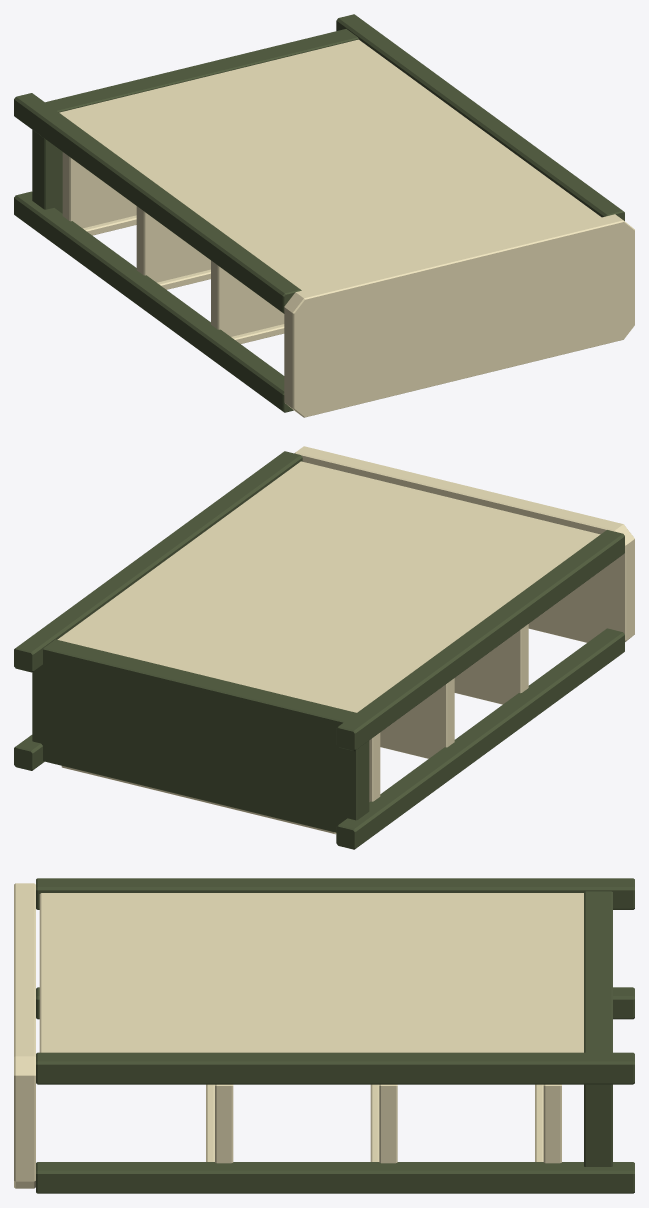
Rendered from fixture_01_wall_shelf.glb.
The picture shows the model from 3 angles, top to bottom: view 1: azimuth 30°, elevation 25°; view 2: azimuth 150°, elevation 25°; view 3: azimuth 270°, elevation 25°; orthographic projection. The views are drawn at different scales.
Parts seen in each view (by area): view 1: fixture_01_wall_shelf; view 2: fixture_01_wall_shelf; view 3: fixture_01_wall_shelf.
Boxes of the visible parts, box(x1,y1,x2,y2) form: fixture_01_wall_shelf: box(14, 14, 634, 417); fixture_01_wall_shelf: box(14, 446, 634, 849); fixture_01_wall_shelf: box(14, 878, 634, 1193).
Size of what is drawn, in the model's own units: 1.2 by 0.408 by 1.7.
